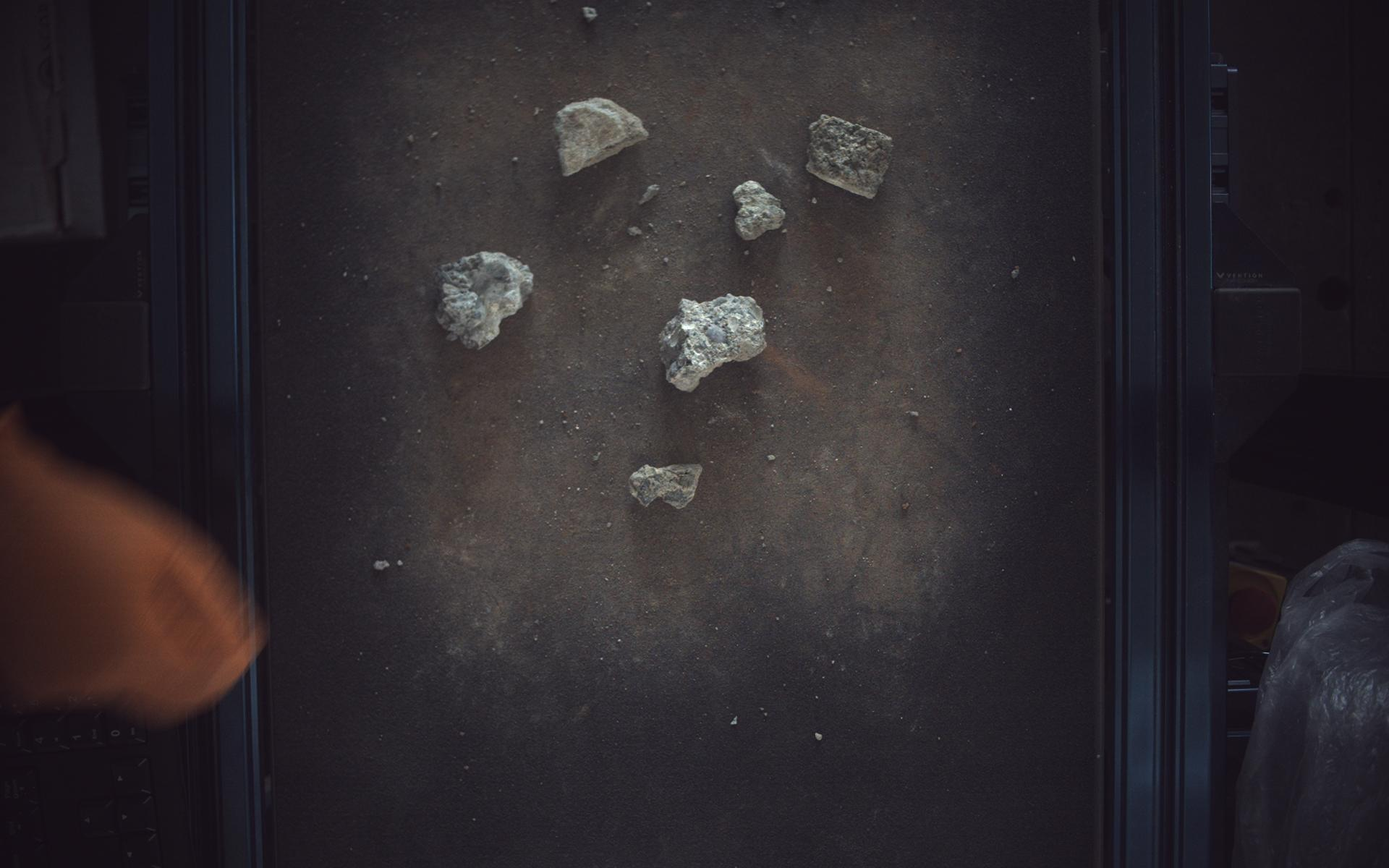concrete: (660, 293, 768, 392), (436, 251, 533, 349), (555, 96, 650, 176), (809, 114, 895, 198), (631, 464, 704, 509), (734, 179, 787, 239)
